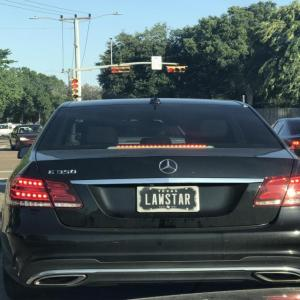Plate: (137, 186, 200, 213)
